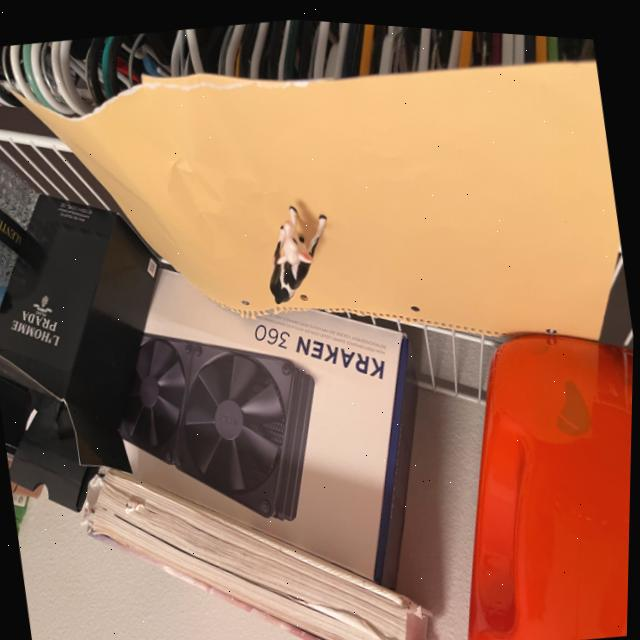cow: (257, 199, 330, 306)
